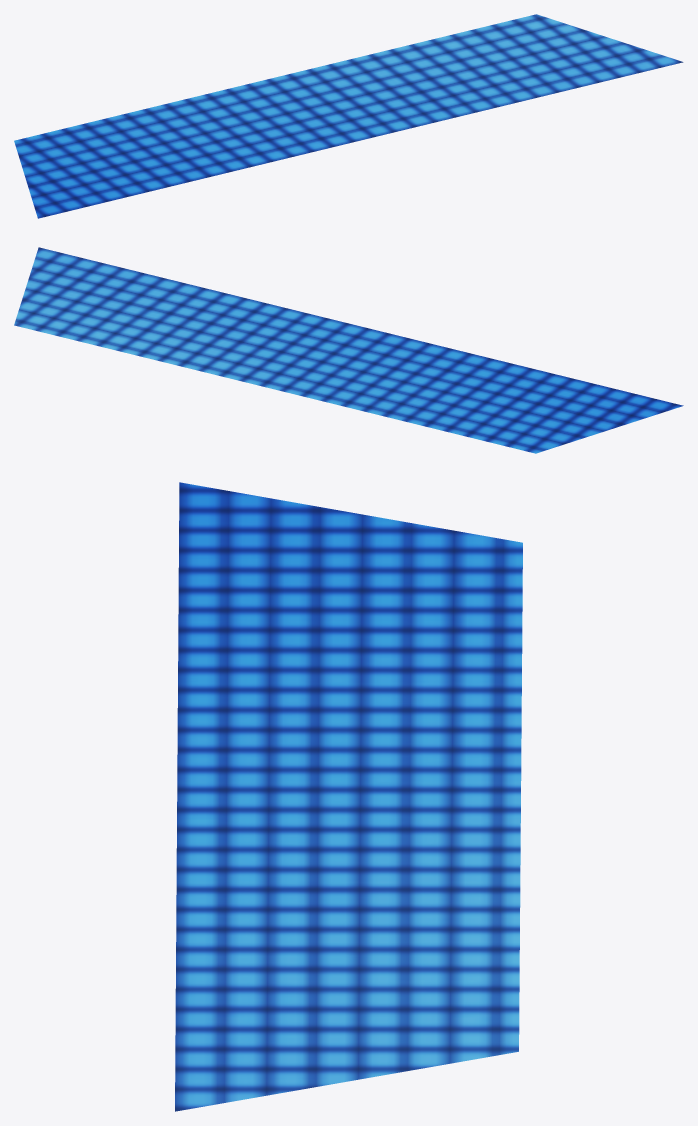
Rendered from FUS0110023.fbx.
The picture shows the model from 3 angles, top to bottom: view 1: azimuth 30°, elevation 25°; view 2: azimuth 150°, elevation 25°; view 3: azimuth 270°, elevation 25°; orthographic projection. The views are drawn at different scales.
Parts seen in each view (by area): view 1: smFUS0110023; view 2: smFUS0110023; view 3: smFUS0110023.
Boxes of the visible parts, x1,y1,x2,y2 form: smFUS0110023: (14, 14, 683, 218); smFUS0110023: (14, 247, 683, 453); smFUS0110023: (175, 482, 522, 1111).
Size of the model in its own units: 3607 by 0.000854 by 843.
Materials: 1 (1 with a texture image).
